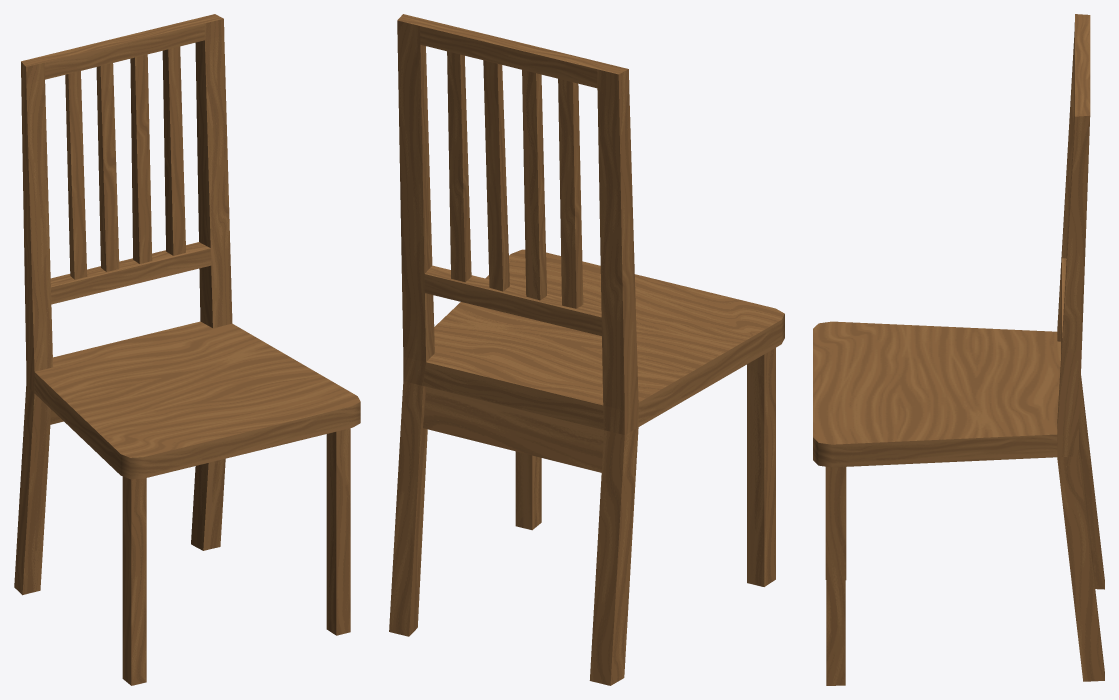
The model's file is chair.glb.
3 renders of one model, left to right at view 1: azimuth 30°, elevation 25°; view 2: azimuth 150°, elevation 25°; view 3: azimuth 270°, elevation 25°, orthographic. The views are drawn at different scales.
Parts seen in each view (by area): view 1: chair; view 2: chair; view 3: chair.
Part boxes in pixels (x1,y1,x2,y2): chair: [14, 14, 360, 685]; chair: [389, 14, 784, 685]; chair: [813, 14, 1104, 685].
Bounding box in the file's own units: 0.3125 × 0.6688 × 0.3131.
Materials: 2 (2 with a texture image).
